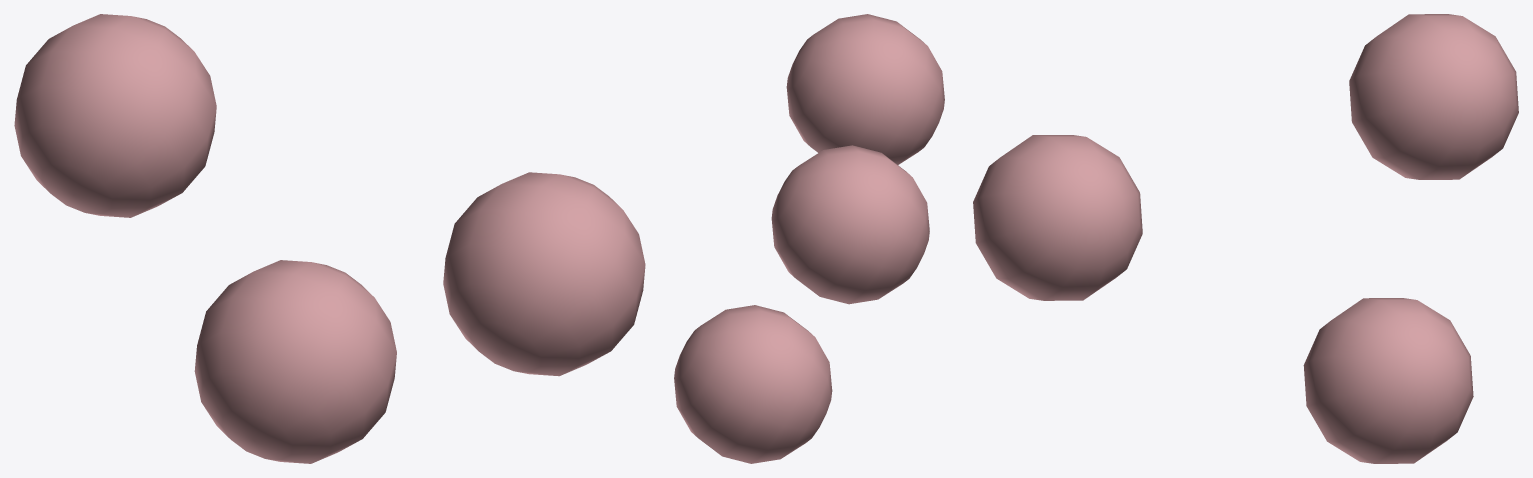
3 renders of one model, left to right at view 1: azimuth 30°, elevation 25°; view 2: azimuth 150°, elevation 25°; view 3: azimuth 270°, elevation 25°, orthographic. The views are drawn at different scales.
Parts seen in each view (by area): view 1: ZA_f5bcceb6a470fee5; view 2: ZA_f5bcceb6a470fee5; view 3: ZA_f5bcceb6a470fee5.
Part boxes in pixels (left/top/right/bottom): ZA_f5bcceb6a470fee5: left=14, top=14, right=645, bottom=463; ZA_f5bcceb6a470fee5: left=674, top=14, right=944, bottom=463; ZA_f5bcceb6a470fee5: left=973, top=14, right=1518, bottom=463.
Size of the model in its own units: 0.00557 by 0.00625 by 0.0082.
